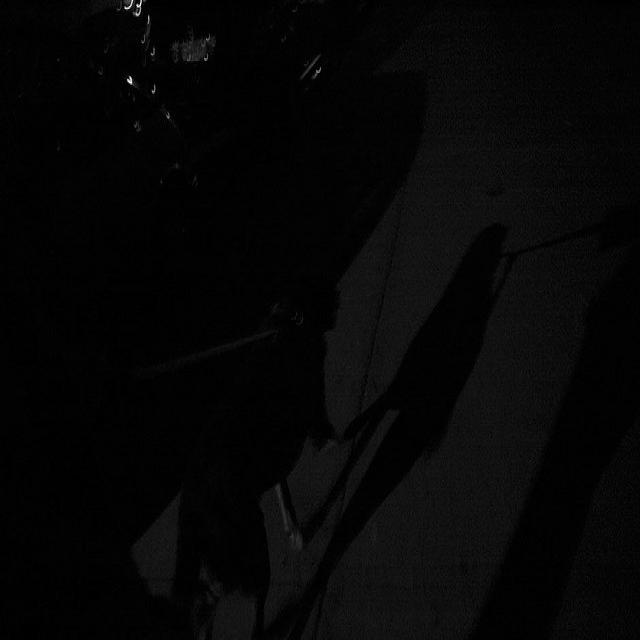Dog: (176, 239, 525, 617)
